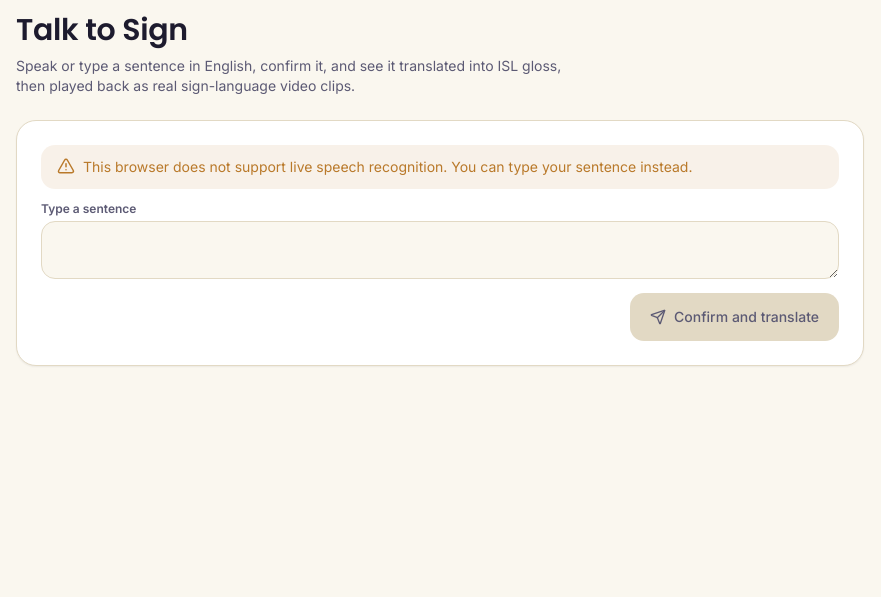
Test: SoundSignsClient › sends the confirmed text to the existing soundsigns-service /translate endpoint
Type "hello" into the text box labelled "Type a sentence". click: (440, 250)
box: [41,221,839,279]
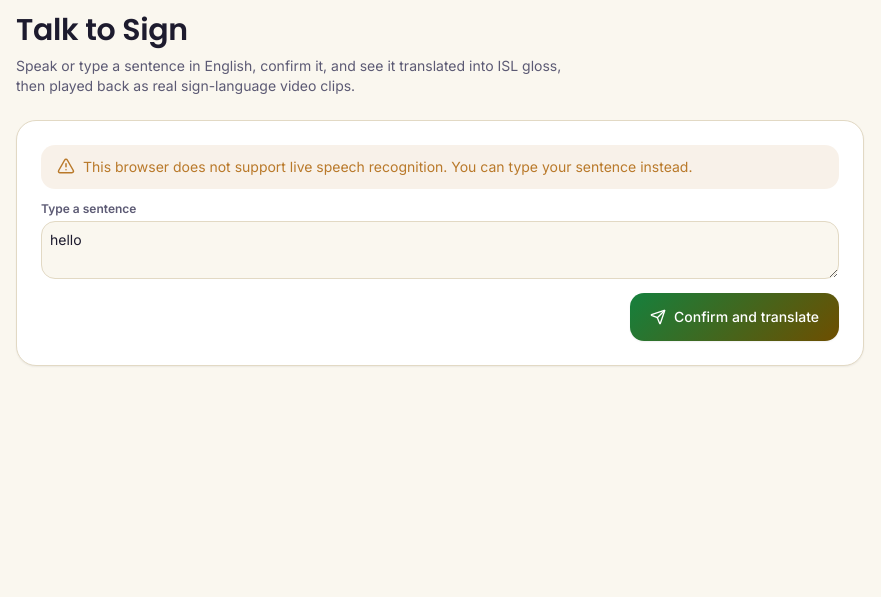
Click the button "Confirm and translate". click: (735, 317)
box: [630,293,839,341]
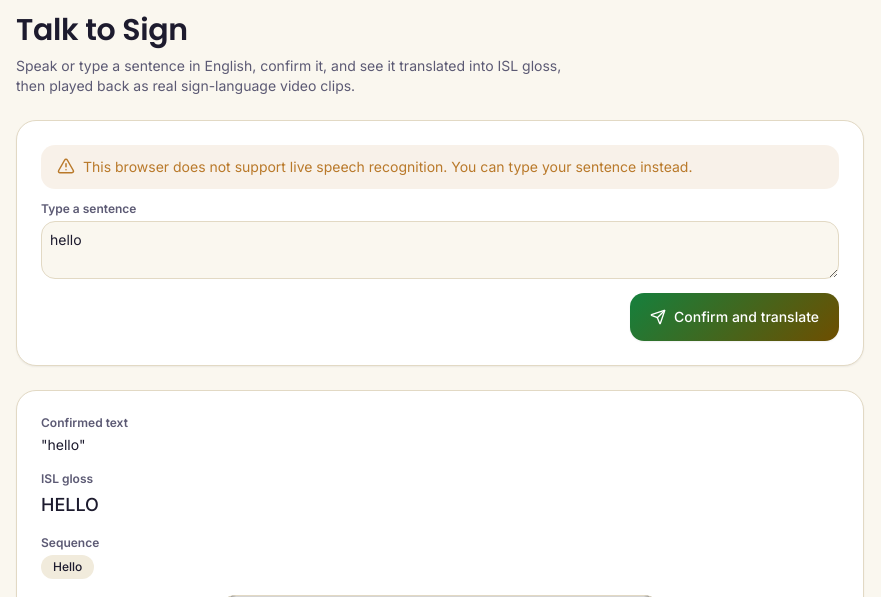
Check: the text "HELLO" is shown, box [41,494,99,515]
